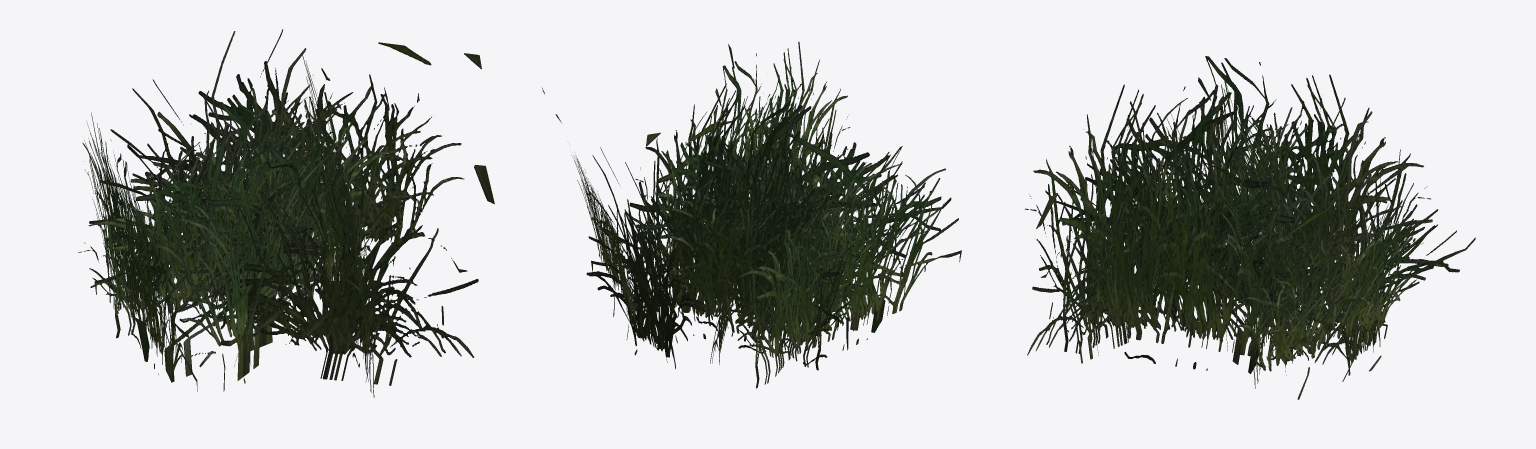
The model's file is forest_grass_003_b_LOD1.gltf.
3 views of the same model, side by side, from view 1: azimuth 30°, elevation 25°; view 2: azimuth 150°, elevation 25°; view 3: azimuth 270°, elevation 25° (orthographic). The views are drawn at different scales.
Visible parts, largest first — view 1: meadow_grass_002_b_LOD1; view 2: meadow_grass_002_b_LOD1; view 3: meadow_grass_002_b_LOD1.
Part boxes in pixels (x1,y1,x2,y2): meadow_grass_002_b_LOD1: (78, 29, 494, 397); meadow_grass_002_b_LOD1: (541, 41, 961, 388); meadow_grass_002_b_LOD1: (1025, 56, 1475, 399).
Size of the model in its own units: 1.18 by 0.7546 by 1.32.
